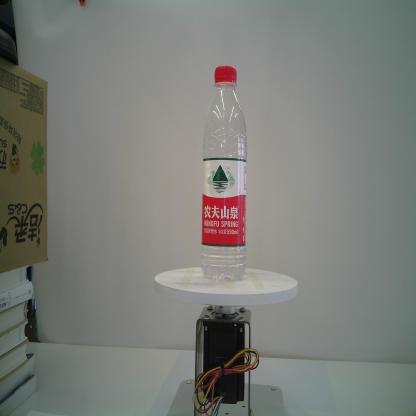Drink: (200, 63, 249, 284)
